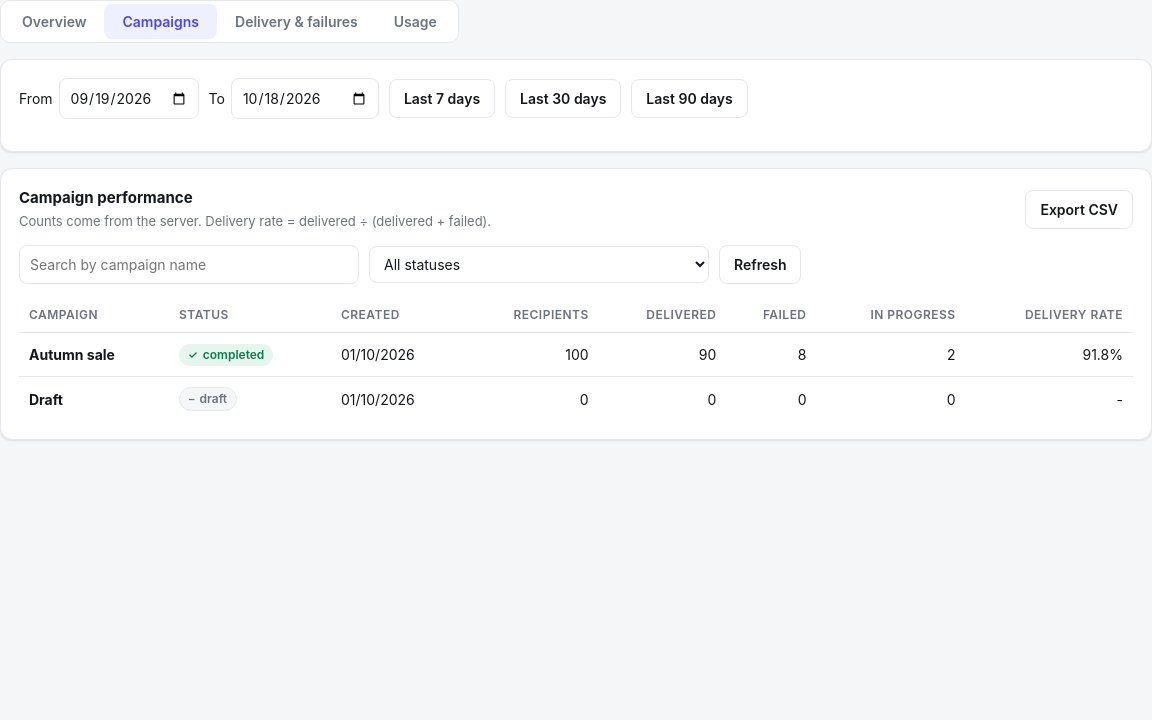
Test: reports — campaigns › 22 a too-large export shows a clear message and no file
Expected: the text "Autumn sale" is shown, [29,346,115,363]
What coordinates should you click on to do the following:
click the button "Export CSV"
I would click on:
 (1079, 209)
Its box is [1025,190,1133,228].
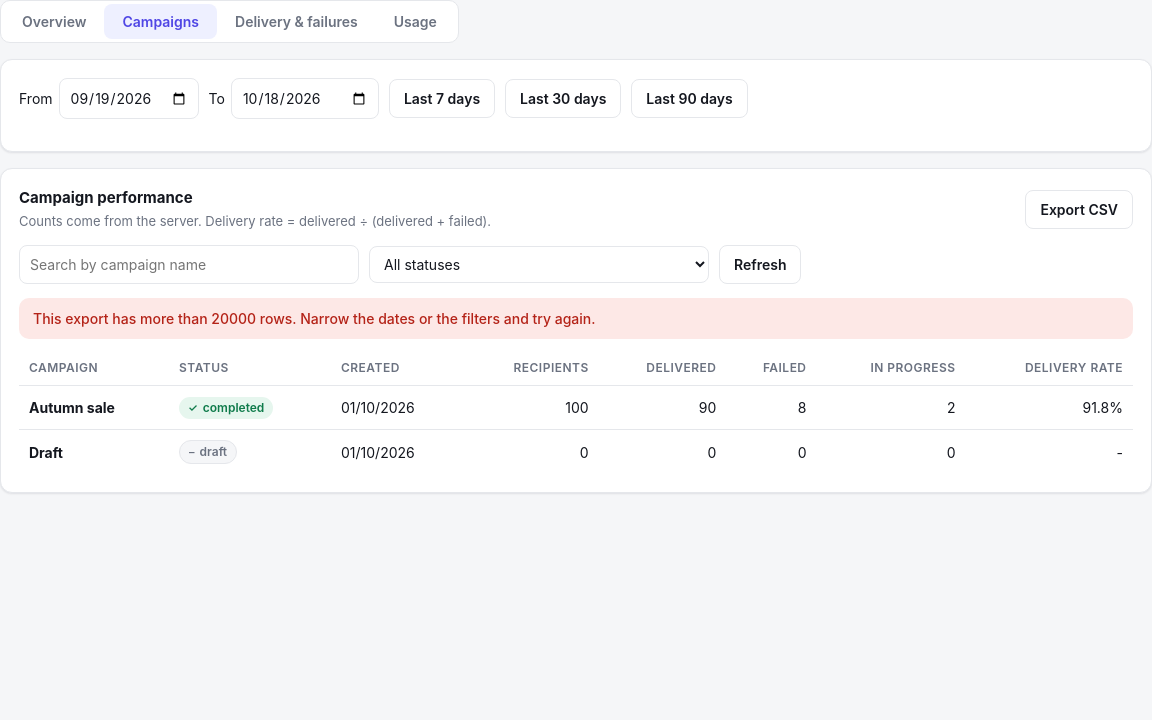
Result: the text "more than 20000 rows. Narrow the dates" is shown at [33,310,596,327]
